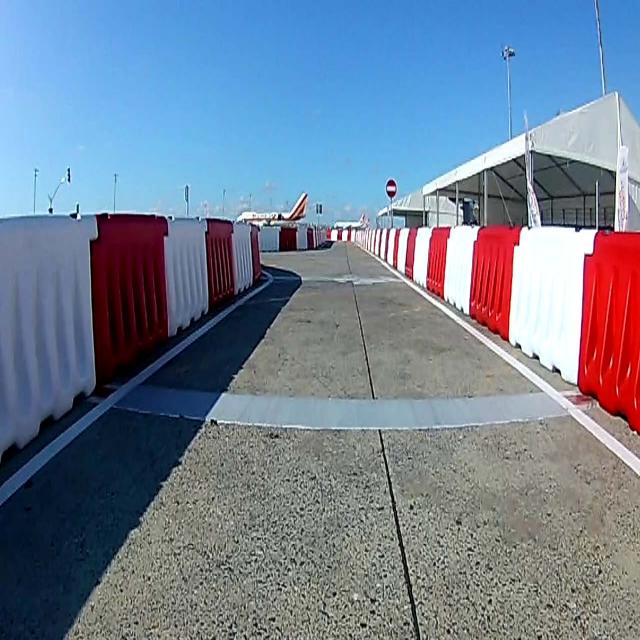girisyok: (386, 176, 398, 197)
